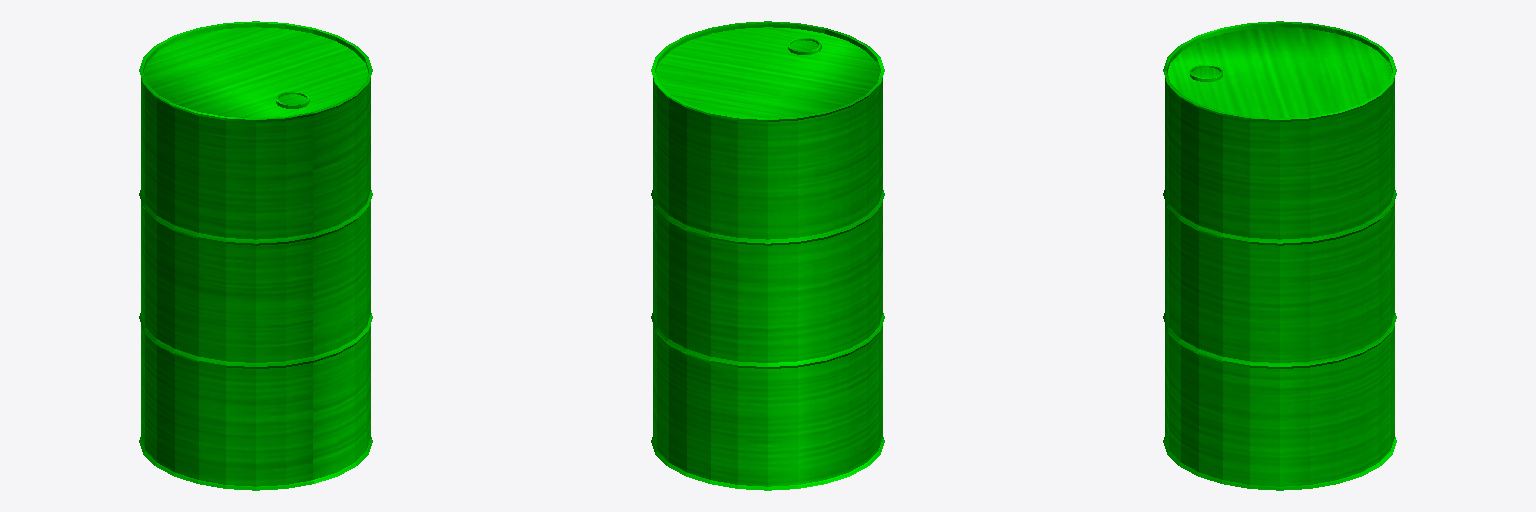
The picture shows the model from 3 angles: view 1: azimuth 30°, elevation 25°; view 2: azimuth 150°, elevation 25°; view 3: azimuth 270°, elevation 25°; orthographic projection.
Parts seen in each view (by area): view 1: Circle_Circle.001; view 2: Circle_Circle.001; view 3: Circle_Circle.001.
Boxes of the visible parts, x1=… form: Circle_Circle.001: x1=139, y1=21, x2=372, y2=490; Circle_Circle.001: x1=651, y1=21, x2=884, y2=490; Circle_Circle.001: x1=1163, y1=21, x2=1396, y2=490.
Bounding box in the file's own units: 0.8882 × 1.55 × 0.8882.
1 materials, 1 textured.